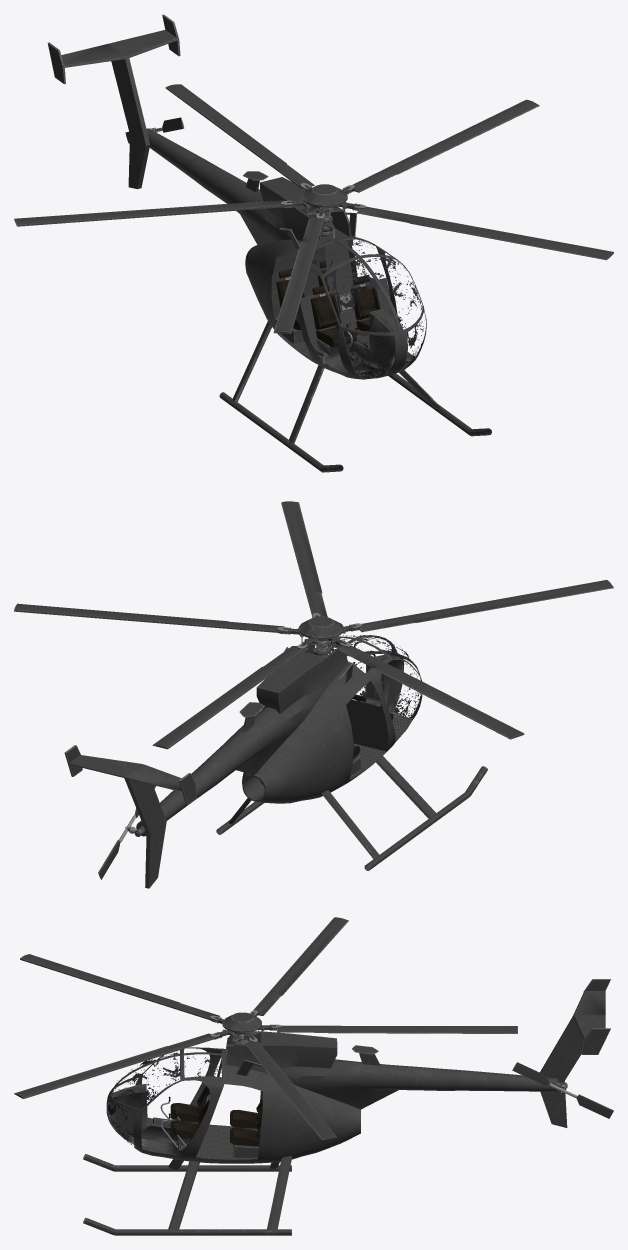
Rendered from Helicopter.fbx.
3 views of the same model, one above another, from view 1: azimuth 30°, elevation 25°; view 2: azimuth 150°, elevation 25°; view 3: azimuth 270°, elevation 25° (orthographic). The views are drawn at different scales.
Visible parts, largest first — view 1: Circle.002_LB_0, Circle.001_LB_0, Circle_LB_0, Plane.005_LB_0, Cylinder.017_LB_0, Cylinder.011_LB_0, Cylinder.006_LB_0, Cylinder.001_LB_0, Cylinder.005_LB_0, Circle.003_LB_0, Cylinder.007_LB_0, Cylinder.003_LB_0 (+2 smaller); view 2: Circle_LB_0, Circle.001_LB_0, Plane.005_LB_0, Circle.002_LB_0, Cylinder.017_LB_0, Cylinder.005_LB_0, Cylinder.006_LB_0, Cylinder.001_LB_0, Cylinder.007_LB_0, Cylinder.011_LB_0, Cylinder.003_LB_0, Circle.003_LB_0; view 3: Circle.001_LB_0, Circle_LB_0, Cylinder.017_LB_0, Circle.002_LB_0, Plane.005_LB_0, Cylinder.007_LB_0, Cylinder.011_LB_0, Cylinder.005_LB_0, Cylinder.001_LB_0, Cylinder.006_LB_0, Circle.003_LB_0, Plane.009_LB_0 (+6 smaller).
Part boxes in pixels (left/top/right/bottom): Circle.002_LB_0: left=271, top=240, right=416, bottom=378; Circle.001_LB_0: left=146, top=128, right=353, bottom=254; Circle_LB_0: left=245, top=236, right=426, bottom=379; Plane.005_LB_0: left=61, top=30, right=177, bottom=189; Cylinder.017_LB_0: left=219, top=321, right=491, bottom=472; Cylinder.011_LB_0: left=331, top=201, right=613, bottom=260; Cylinder.006_LB_0: left=14, top=199, right=317, bottom=226; Cylinder.001_LB_0: left=342, top=99, right=539, bottom=194; Cylinder.005_LB_0: left=273, top=207, right=331, bottom=333; Circle.003_LB_0: left=312, top=240, right=424, bottom=378; Cylinder.007_LB_0: left=165, top=84, right=317, bottom=209; Cylinder.003_LB_0: left=302, top=184, right=347, bottom=207; Circle_LB_0: left=242, top=635, right=422, bottom=803; Circle.001_LB_0: left=136, top=638, right=347, bottom=836; Plane.005_LB_0: left=69, top=755, right=181, bottom=888; Circle.002_LB_0: left=346, top=655, right=413, bottom=779; Cylinder.017_LB_0: left=216, top=756, right=487, bottom=870; Cylinder.005_LB_0: left=329, top=580, right=613, bottom=641; Cylinder.006_LB_0: left=324, top=637, right=524, bottom=739; Cylinder.001_LB_0: left=14, top=603, right=315, bottom=644; Cylinder.007_LB_0: left=152, top=638, right=324, bottom=749; Cylinder.011_LB_0: left=281, top=501, right=327, bottom=617; Cylinder.003_LB_0: left=298, top=616, right=343, bottom=639; Circle.003_LB_0: left=315, top=635, right=420, bottom=717; Circle.001_LB_0: left=226, top=1031, right=557, bottom=1109; Circle_LB_0: left=106, top=1047, right=360, bottom=1163; Cylinder.017_LB_0: left=83, top=1154, right=292, bottom=1235; Circle.002_LB_0: left=107, top=1060, right=257, bottom=1159; Plane.005_LB_0: left=540, top=991, right=605, bottom=1127; Cylinder.007_LB_0: left=253, top=1024, right=517, bottom=1033; Cylinder.011_LB_0: left=14, top=1029, right=242, bottom=1098; Cylinder.005_LB_0: left=20, top=954, right=235, bottom=1036; Cylinder.001_LB_0: left=242, top=1032, right=336, bottom=1139; Cylinder.006_LB_0: left=249, top=917, right=348, bottom=1016; Circle.003_LB_0: left=108, top=1047, right=220, bottom=1144; Plane.009_LB_0: left=512, top=1062, right=613, bottom=1118.
Size of the model in its own units: 786 by 323 by 900.
Materials: 1 (1 with a texture image).
